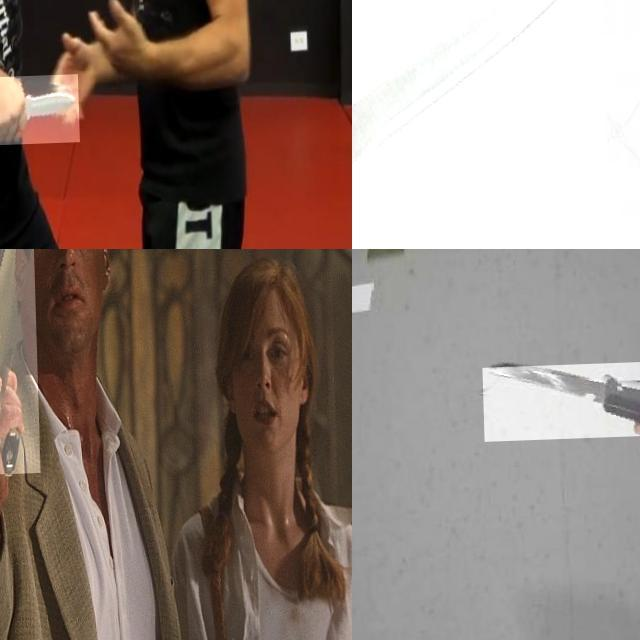-: (352, 0, 609, 249), (481, 363, 640, 443), (0, 76, 77, 147)
gun-knife-thesis - v11 Yolov5 augmented: (0, 249, 52, 477)
